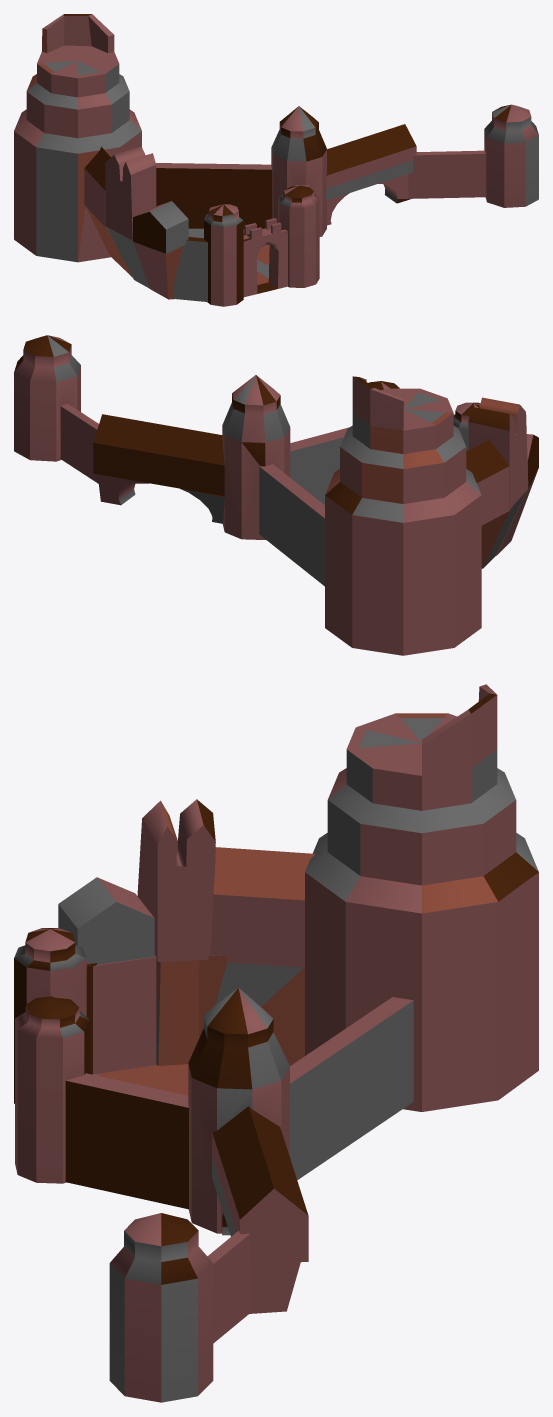
The model's file is Castle.fbx.
The picture shows the model from 3 angles, top to bottom: view 1: azimuth 30°, elevation 25°; view 2: azimuth 150°, elevation 25°; view 3: azimuth 270°, elevation 25°; orthographic projection. The views are drawn at different scales.
Parts seen in each view (by area): view 1: Castle; view 2: Castle; view 3: Castle.
Boxes of the visible parts, left/top/right/bottom form: Castle: left=14, top=14, right=538, bottom=306; Castle: left=14, top=335, right=538, bottom=655; Castle: left=14, top=684, right=538, bottom=1402.
Size of the model in its own units: 60.23 by 26.73 by 34.08.
